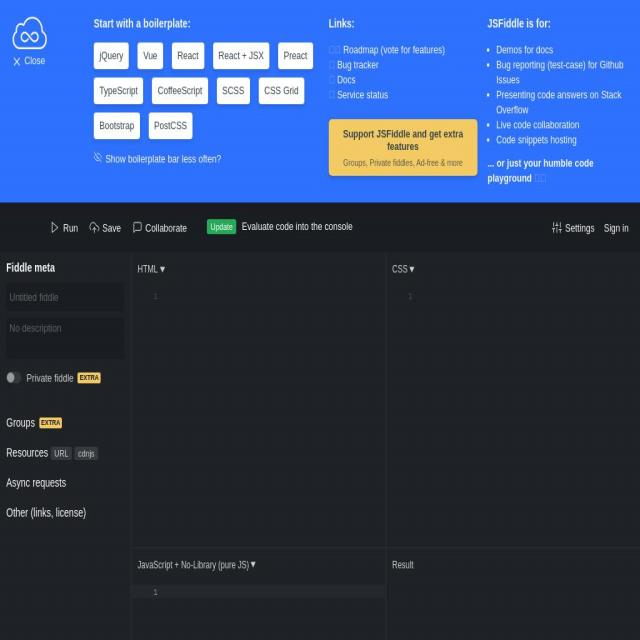button: (328, 119, 478, 176), (132, 548, 262, 582), (126, 202, 191, 252), (546, 202, 600, 252), (82, 202, 126, 252), (44, 202, 82, 252), (212, 43, 270, 69), (152, 78, 208, 104), (131, 252, 171, 286), (94, 78, 144, 104), (12, 16, 48, 52), (604, 202, 628, 252), (258, 78, 304, 104), (94, 113, 140, 139), (386, 252, 421, 286), (148, 113, 193, 139), (94, 43, 129, 69), (278, 43, 313, 69), (216, 78, 250, 104), (172, 43, 204, 69), (138, 43, 163, 69), (10, 54, 46, 68), (78, 372, 100, 383)
field: (10, 322, 121, 355), (6, 282, 124, 311), (6, 370, 76, 387)
